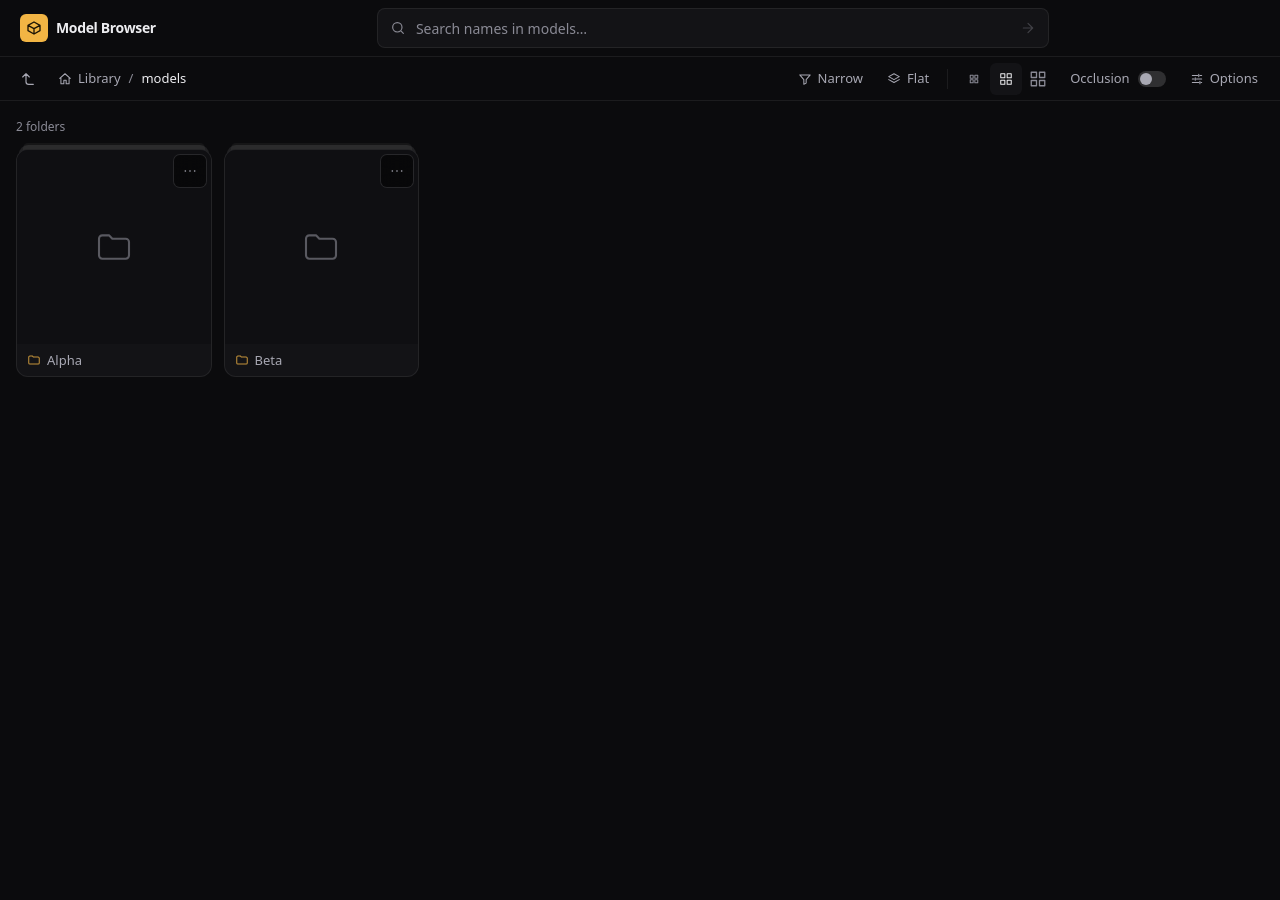
Test: a container tile launches a job over its subtree › reset states its count and discards nothing until the chip is answered
The image size is (1280, 900).
Press the mouse on the button "Alpha" at (114, 263), box x1=16 y1=149 x2=212 y2=377
Right-click the button "Alpha" at (114, 263), box x1=16 y1=149 x2=212 y2=377
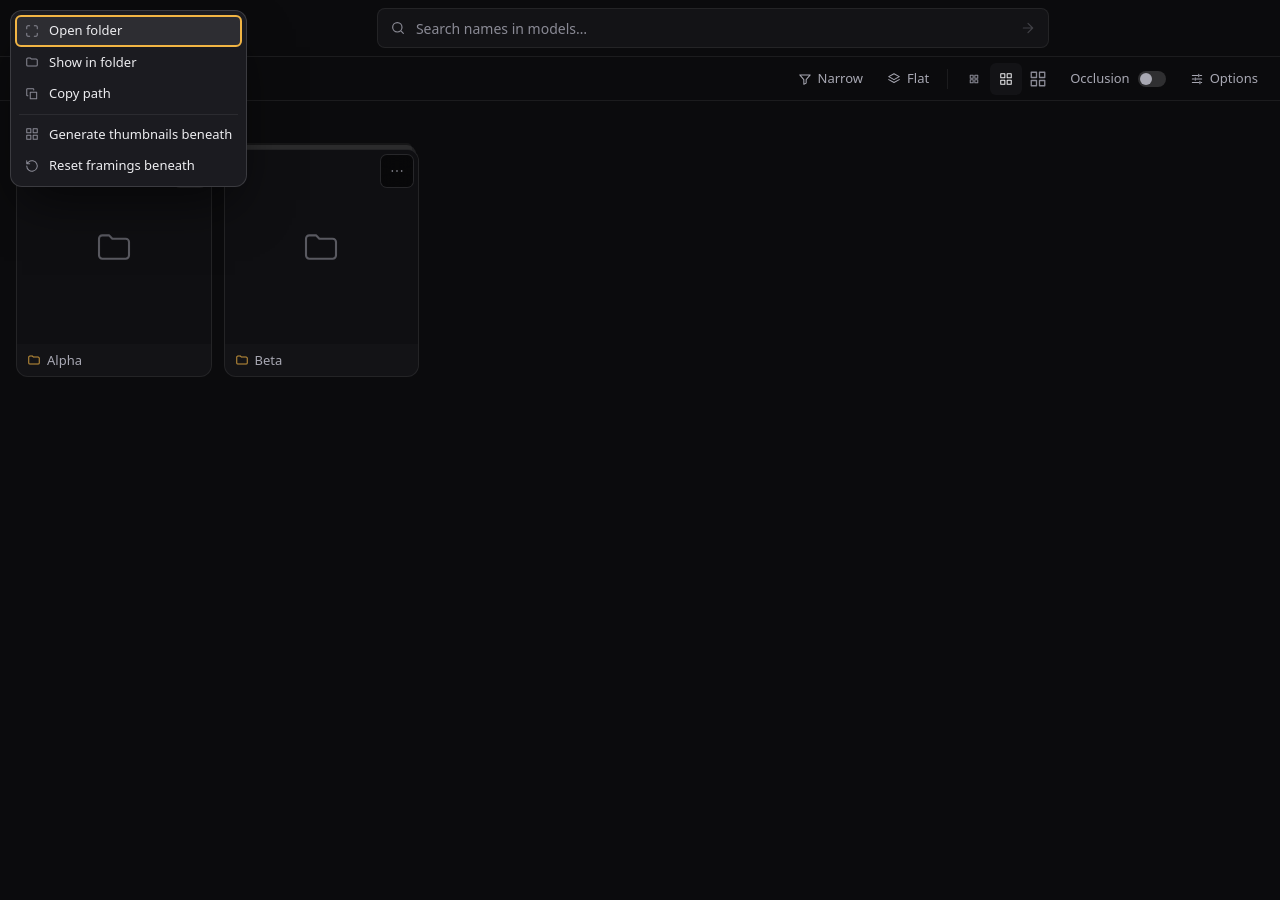
Click the menu item "Reset framings beneath" at (129, 166), box x1=15 y1=150 x2=242 y2=182
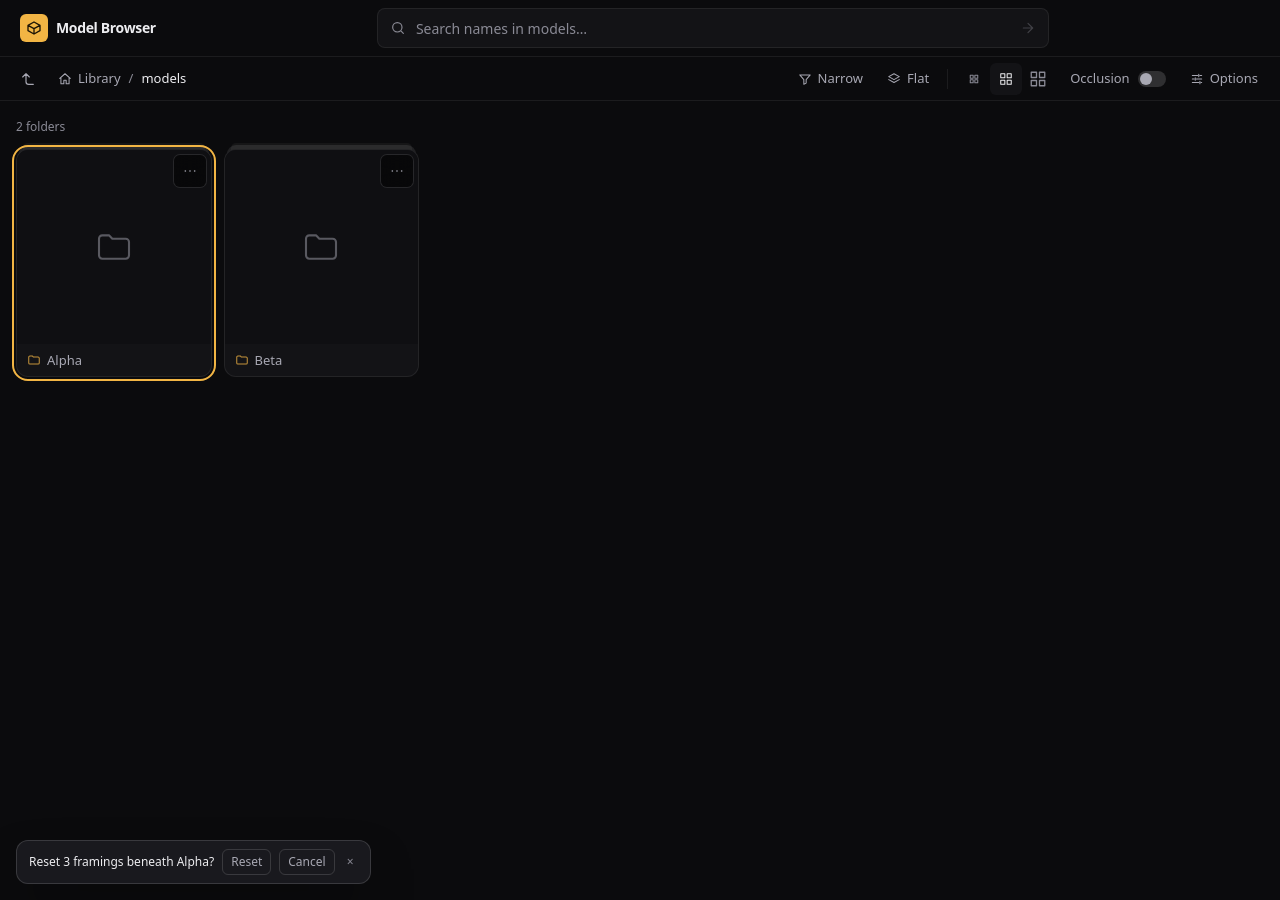
Expected: the text "Reset 3 framings beneath Alpha?" is shown, x1=29 y1=854 x2=214 y2=870
Click the button "Cancel" at (307, 862), box x1=279 y1=849 x2=335 y2=875
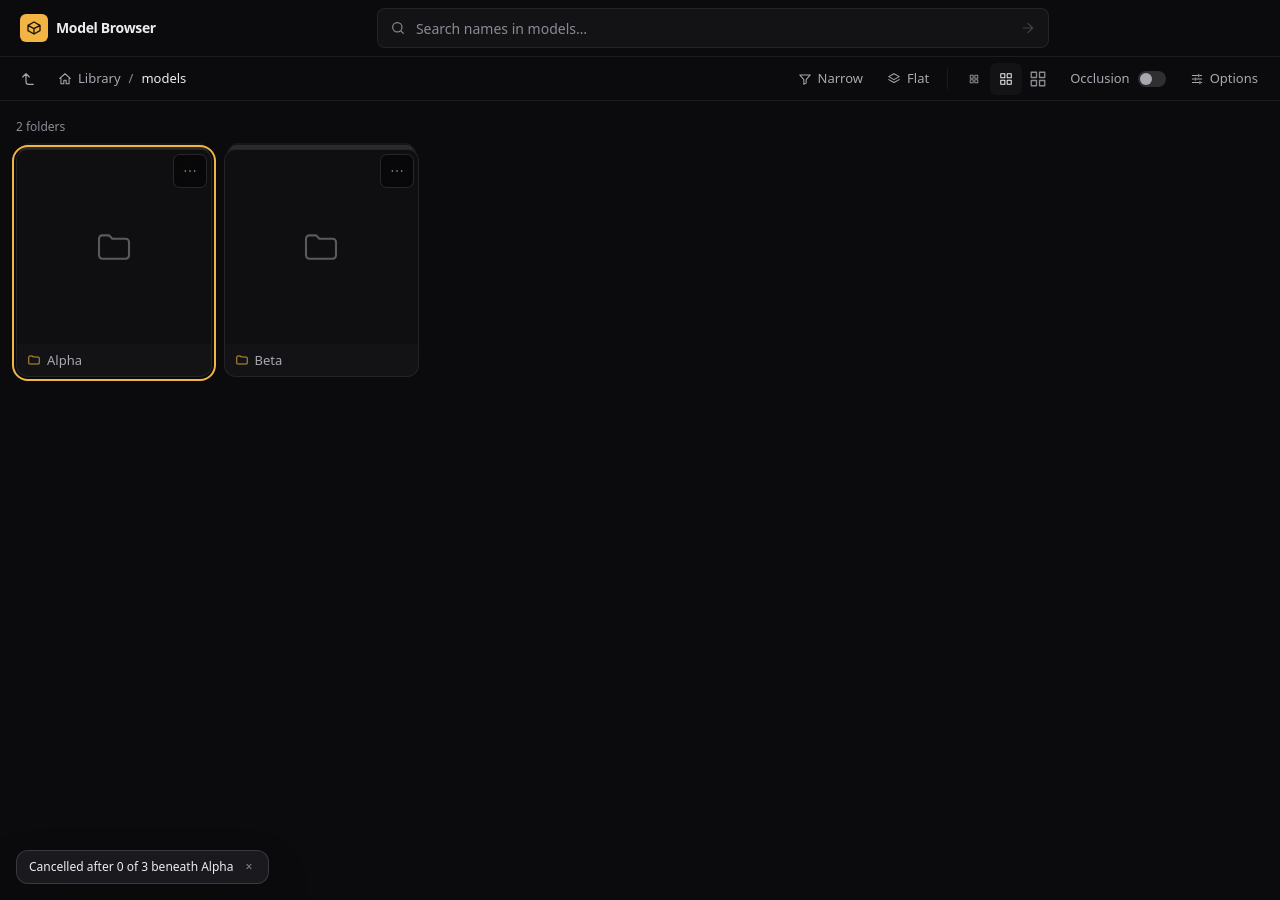
Expected: the text "Cancelled after 0 of 3 beneath Alpha" is shown, x1=29 y1=859 x2=234 y2=875
Press the mouse on the button "Alpha" at (114, 263), box x1=16 y1=149 x2=212 y2=377
Right-click the button "Alpha" at (114, 263), box x1=16 y1=149 x2=212 y2=377
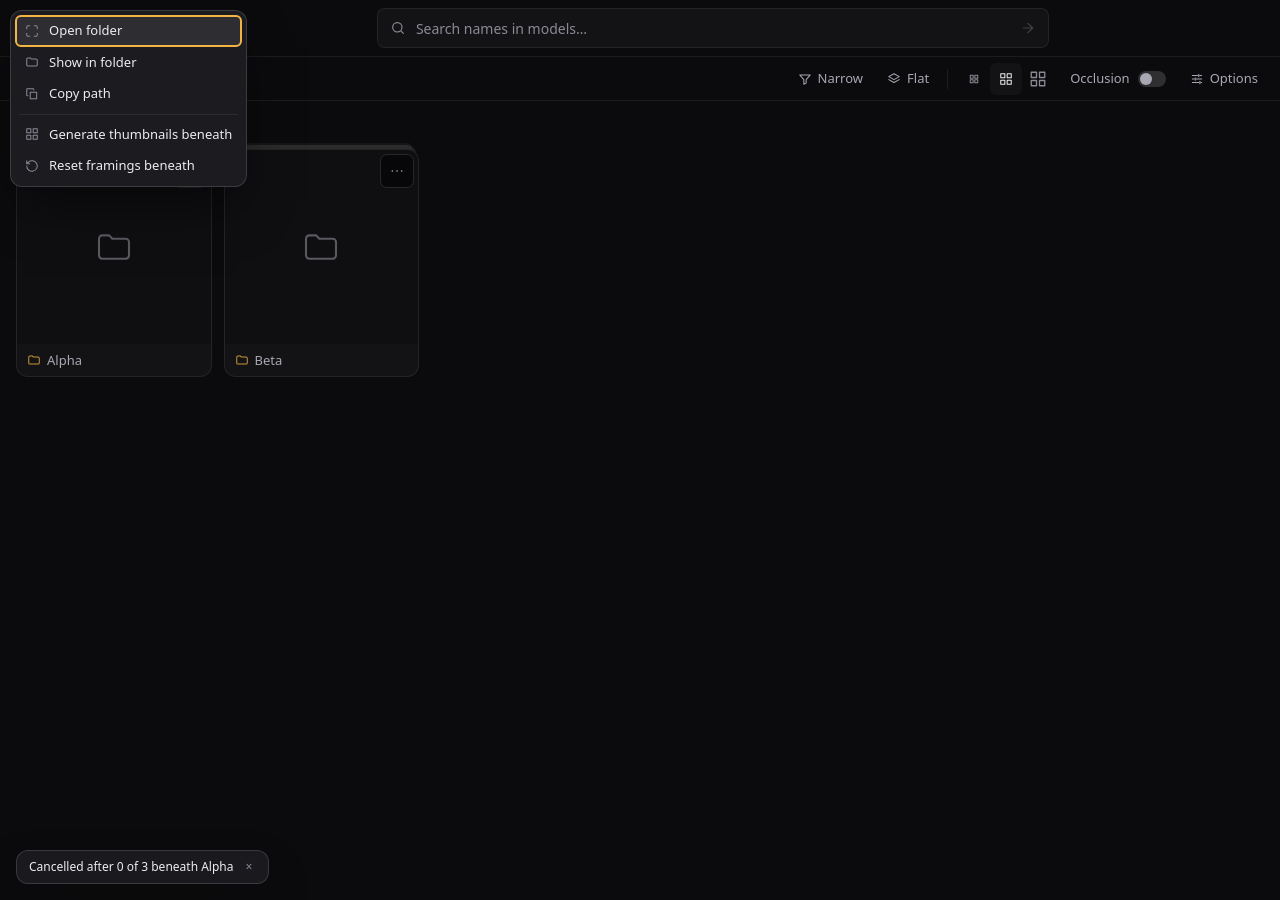
Click the menu item "Reset framings beneath" at (129, 166), box x1=15 y1=150 x2=242 y2=182
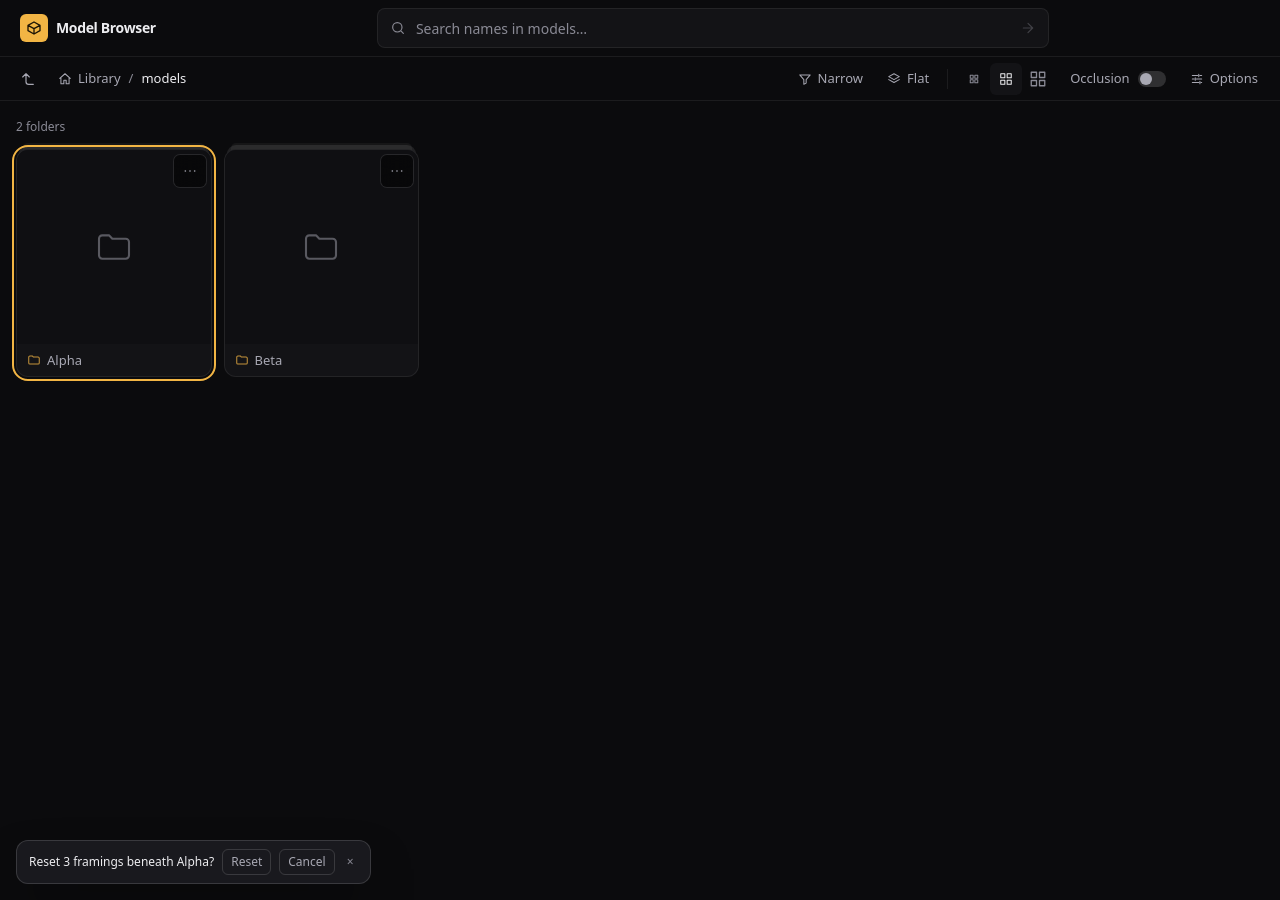
Expected: the text "Reset 3 framings beneath Alpha?" is shown, x1=29 y1=854 x2=214 y2=870
Click the button "Reset" at (247, 862), box x1=222 y1=849 x2=271 y2=875
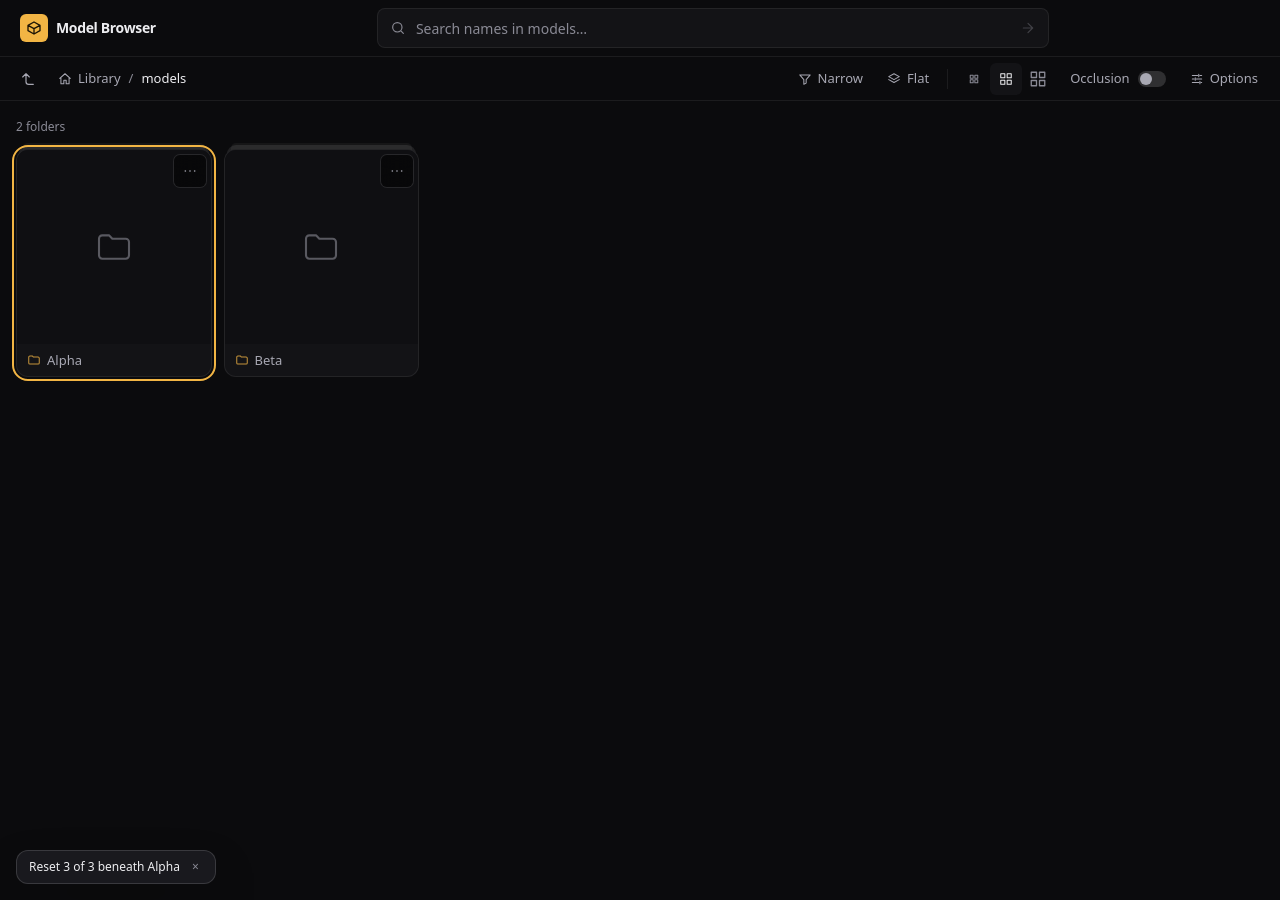
Expected: the text "Reset 3 of 3 beneath Alpha" is shown, x1=29 y1=859 x2=180 y2=875
